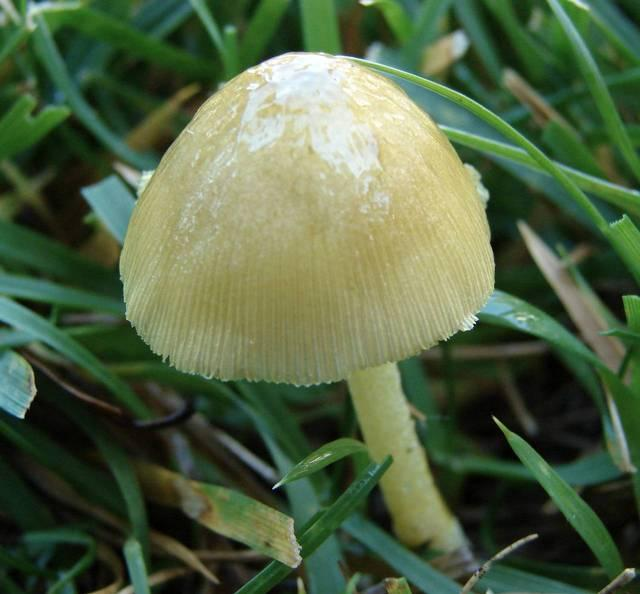Edible Mushroom: (117, 49, 496, 578)
